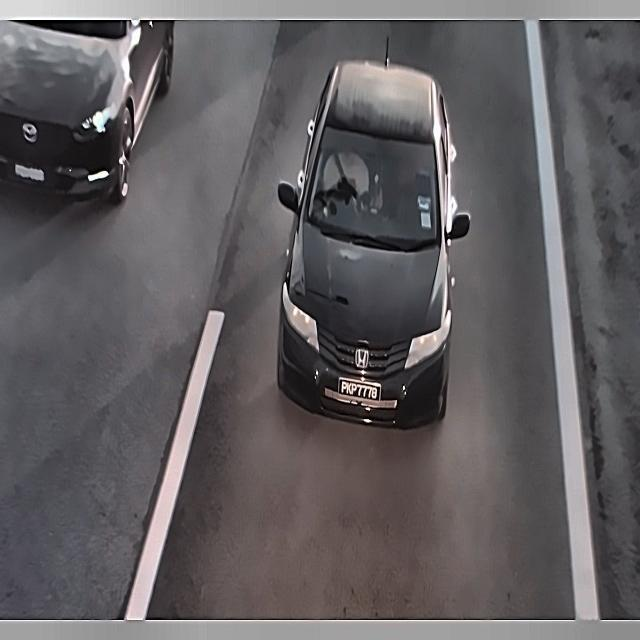car: (334, 368, 384, 407), (12, 155, 55, 190)
